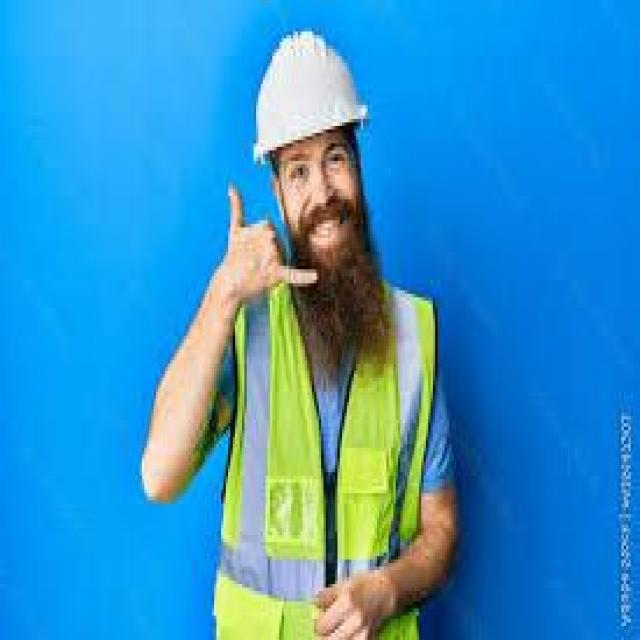Reflective-Jacket: (202, 269, 444, 633)
Safety-Helmet: (247, 24, 370, 164)
